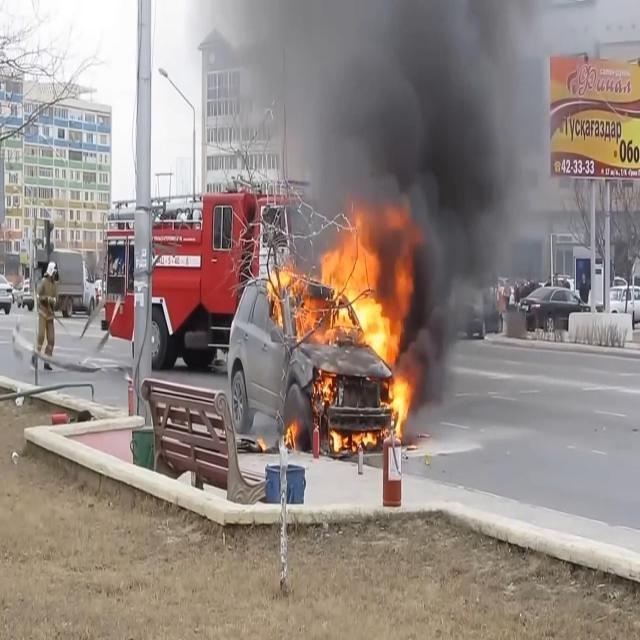fire: (266, 192, 421, 468)
